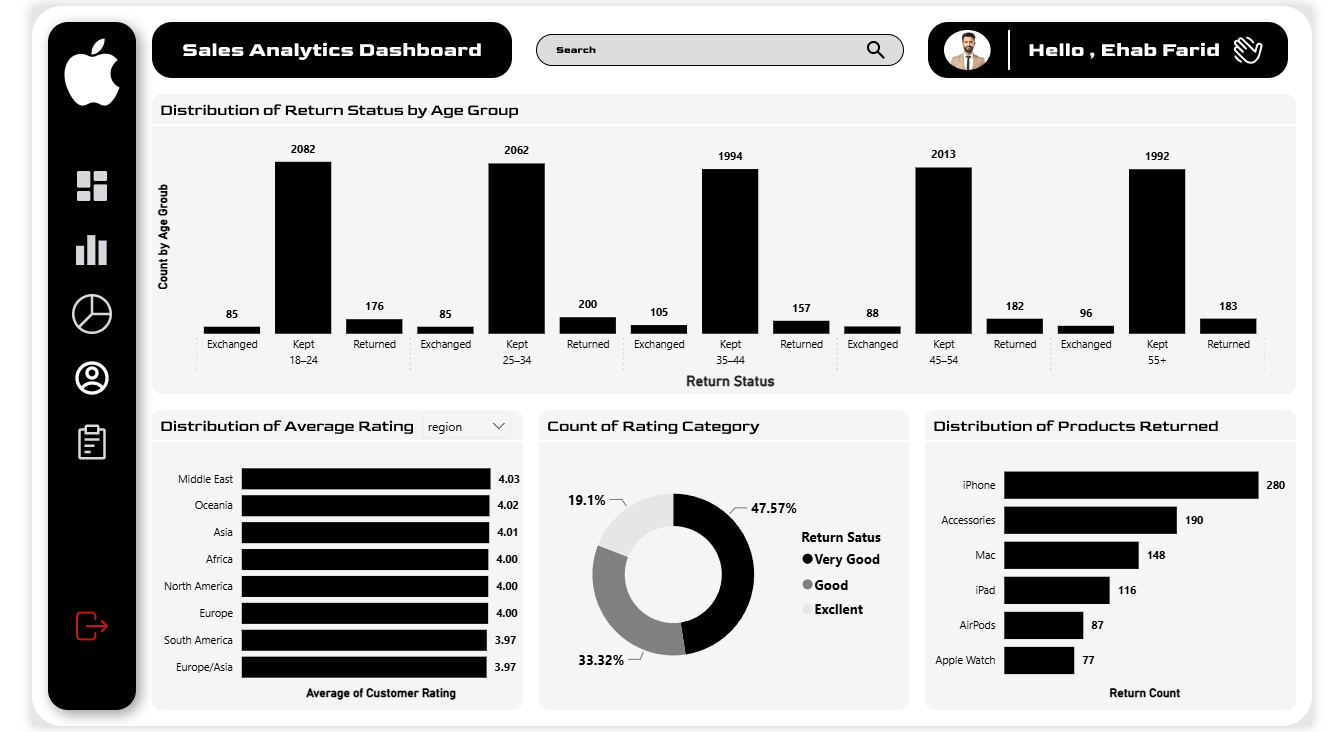

Layout of this report page (visuals, bound fields, positions):
{"tool":"powerbi","page":{"name":"Customers","canvas":[1280,720],"ordinal":3},"visuals":[{"type":"barChart","fields":{"Category":["Dim City.region"],"Y":["Avg(Fact.customer_rating)"]},"box":[120,438.8,373.8,260],"z":0},{"type":"donutChart","fields":{"Category":["Fact.rating_category"],"Y":["CountNonNull(Fact.rating_category)"]},"box":[508.8,438.8,367.5,260],"z":1000},{"type":"columnChart","fields":{"Category":["Fact.customer_age_group"],"Y":["Avg(Fact.customer_rating)"]},"box":[892.5,438.8,366.2,260],"z":2000},{"type":"columnChart","fields":{"Category":["Fact.customer_age_group","Fact.return_status"],"Y":["CountNonNull(Fact.return_status)"]},"box":[120,120,1138.8,268.8],"z":3000},{"type":"slicer","fields":{"Values":["Parameter 2.Parameter 2"]},"box":[380,396.4,108.6,42.1],"z":4000},{"type":"actionButton","box":[40,222.5,40,40],"z":5000},{"type":"actionButton","box":[40,286.7,40,42.9],"z":6000},{"type":"actionButton","box":[40,160.8,40,37.9],"z":7000}]}

Visuals, with their boxes on the page's 1280x720 design canvas (x1, y1, x2, y2). These are canvas units, not pixel positions in the 1341x732 screenshot, which may show the page scaled, cropped or inside an application window:
barChart - Dim City.region x Avg(Fact.customer_rating): box(120, 439, 494, 699)
donutChart - Fact.rating_category x CountNonNull(Fact.rating_category): box(509, 439, 876, 699)
columnChart - Fact.customer_age_group x Avg(Fact.customer_rating): box(892, 439, 1259, 699)
columnChart - Fact.customer_age_group x Fact.return_status: box(120, 120, 1259, 389)
slicer - Parameter 2.Parameter 2: box(380, 396, 489, 438)
actionButton: box(40, 222, 80, 262)
actionButton: box(40, 287, 80, 330)
actionButton: box(40, 161, 80, 199)
